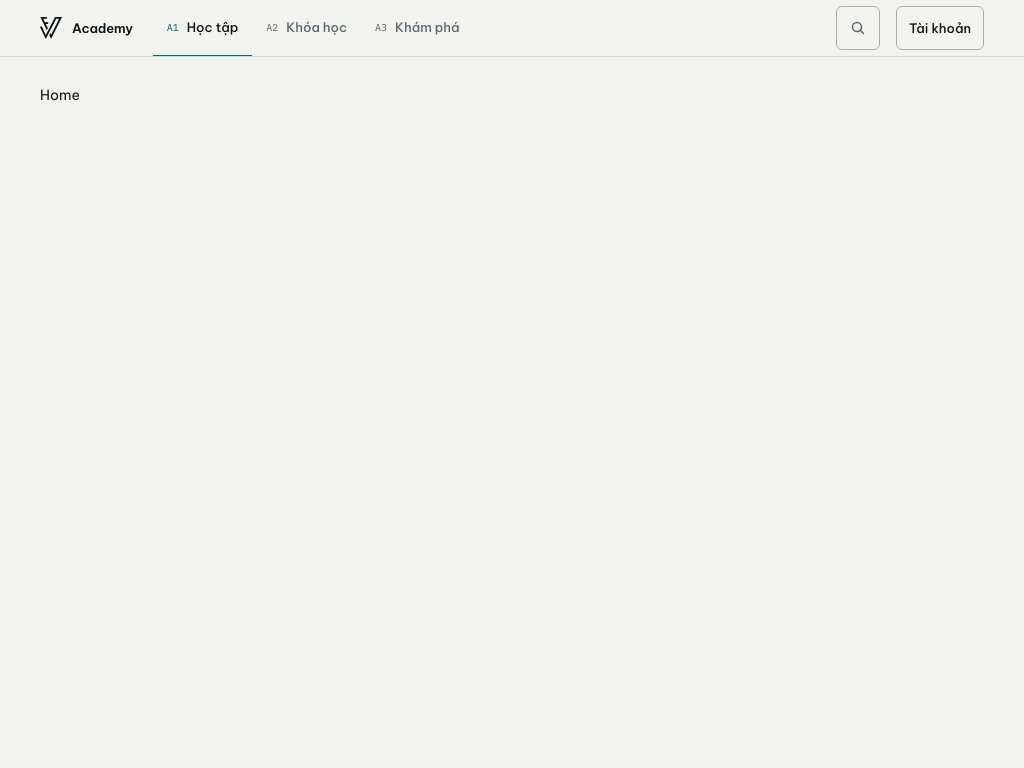
it: learner command menu content › finds Vietnamese entries without diacritics and by their English label
Press k in the heading "Home", box [40,86,80,104]
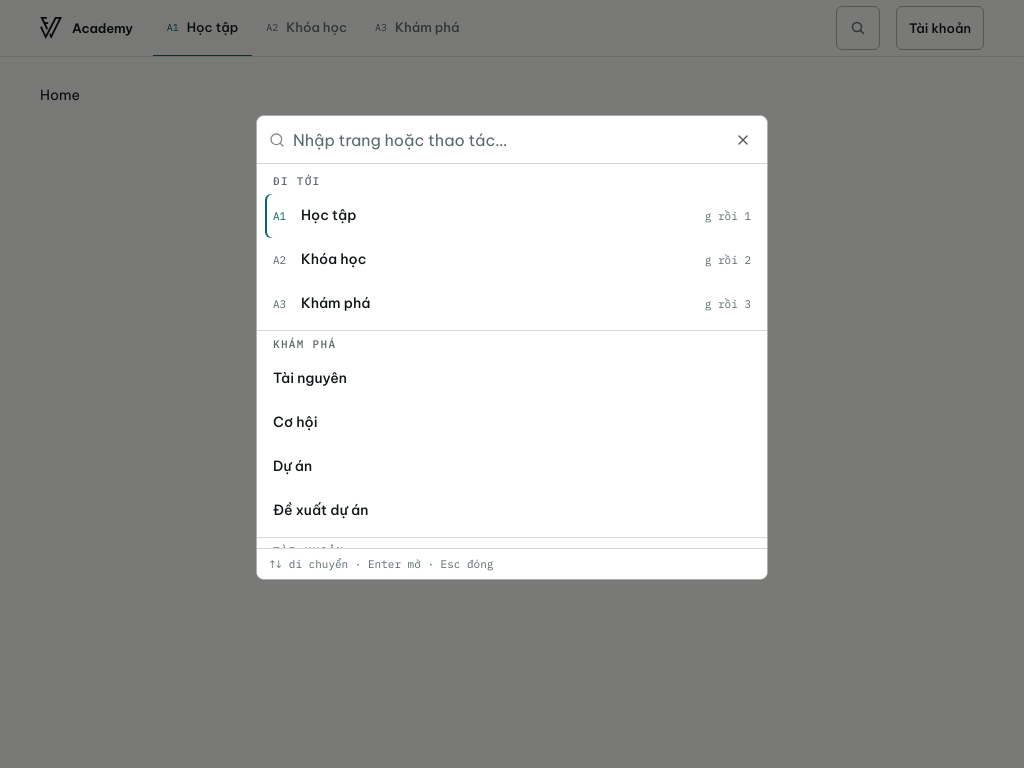
Type "khoa hoc" into the dropdown.
click(506, 140); type("khoa hoc")  # box [293,116,719,164]
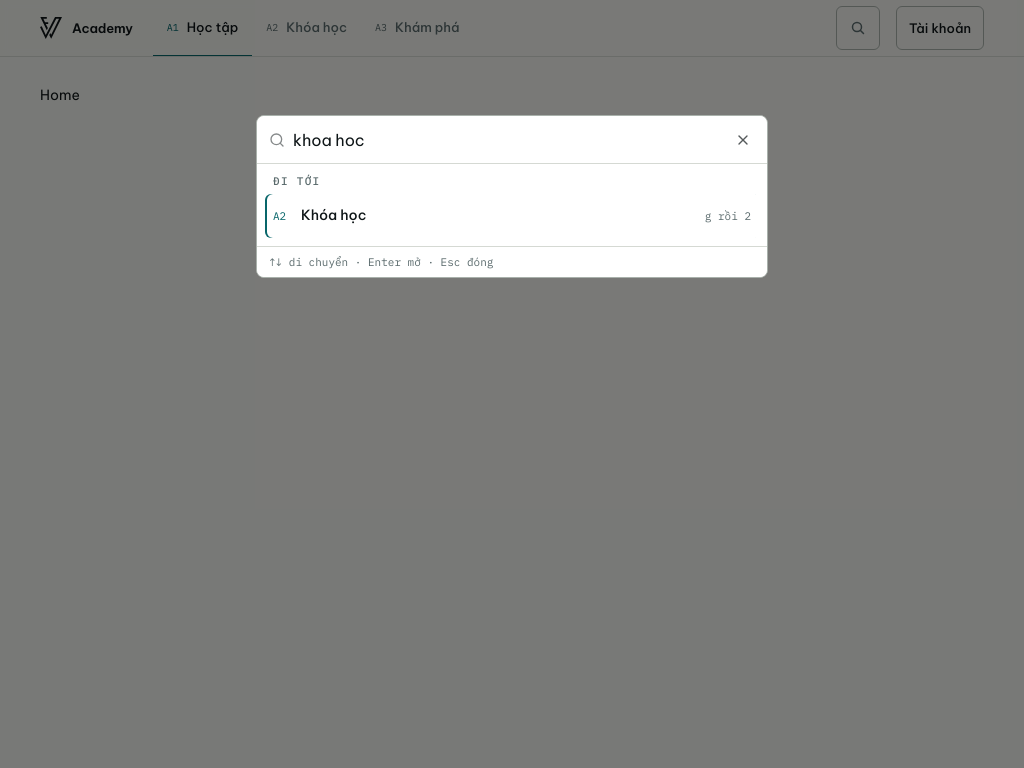
Check: the option "A2 Khóa học g rồi 2" is shown, box [265,194,759,238]
Check: the option "Tài nguyên" is gone
Replace the text in the dropdown with "Khoá học" at (506, 140), box [293,116,719,164]
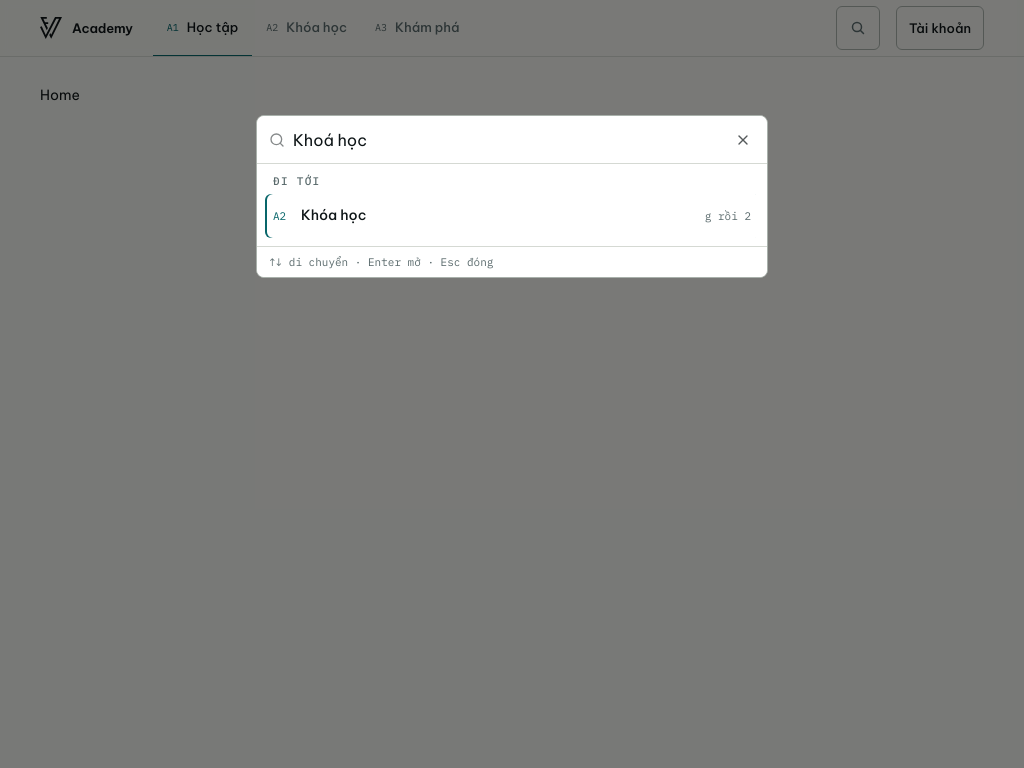
Check: the option "A2 Khóa học g rồi 2" is shown, box [265,194,759,238]
Replace the text in the dropdown with "resources" at (506, 140), box [293,116,719,164]
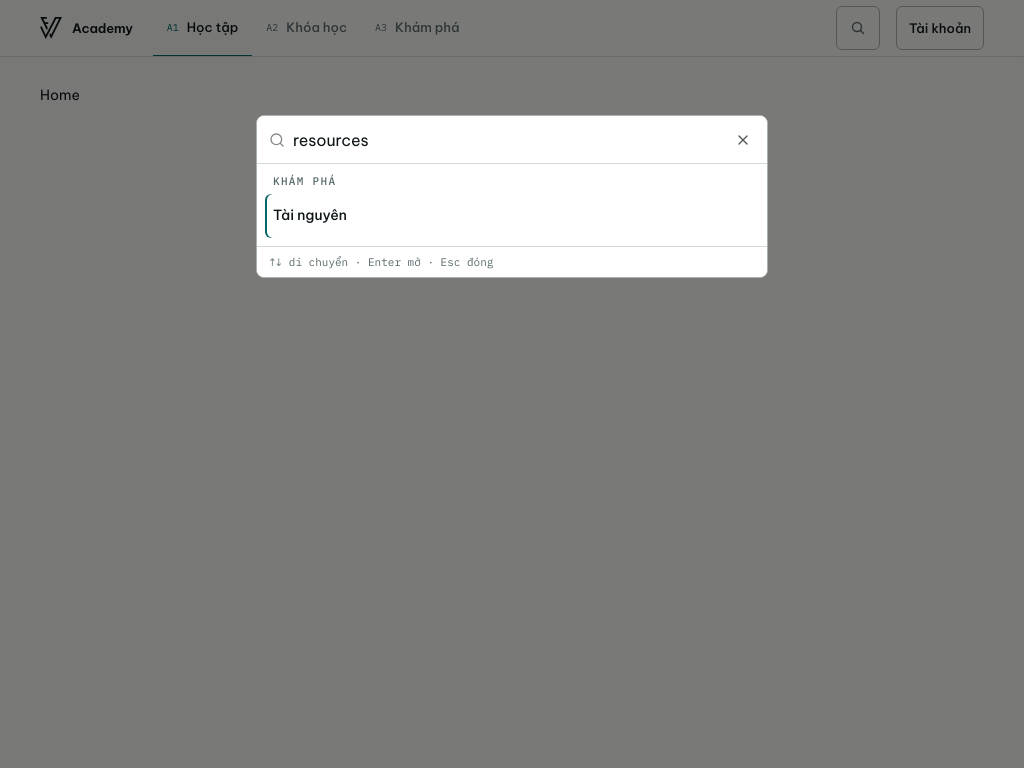
Check: the option "Tài nguyên" is shown, box [265,194,759,238]
Replace the text in the dropdown with "giao dien toi" at (506, 140), box [293,116,719,164]
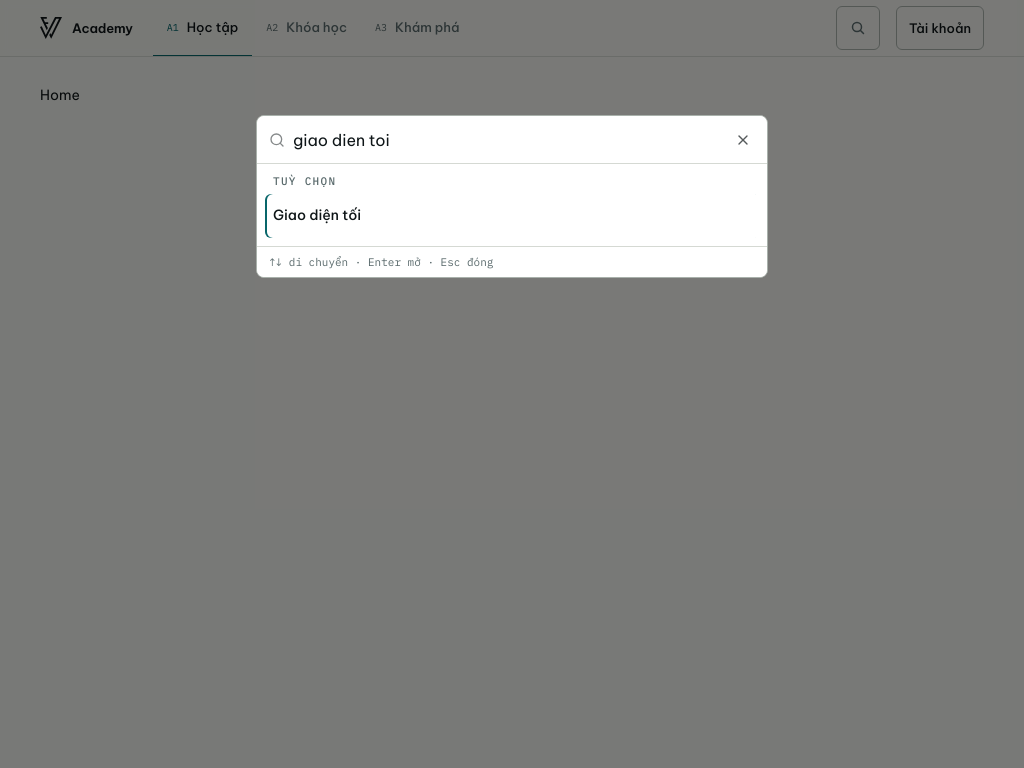
Check: the option "Giao diện tối" is shown, box [265,194,759,238]
Replace the text in the dropdown with "zzzz" at (506, 140), box [293,116,719,164]
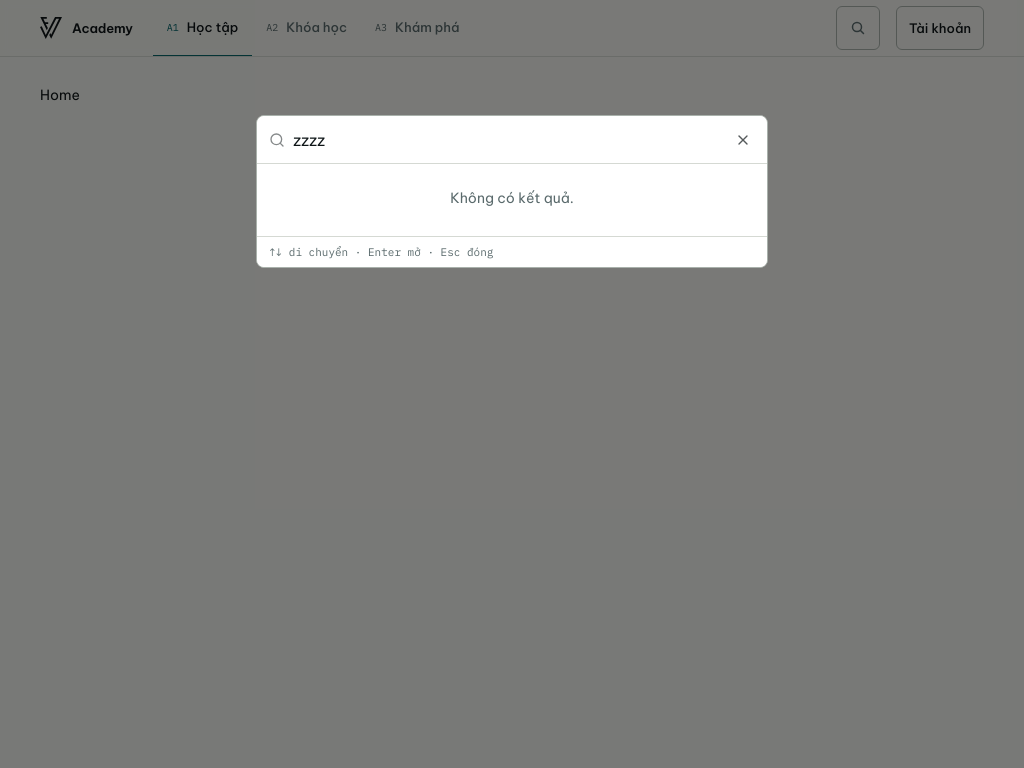
Check: the text "Không có kết quả." is shown, box [450,189,574,207]
